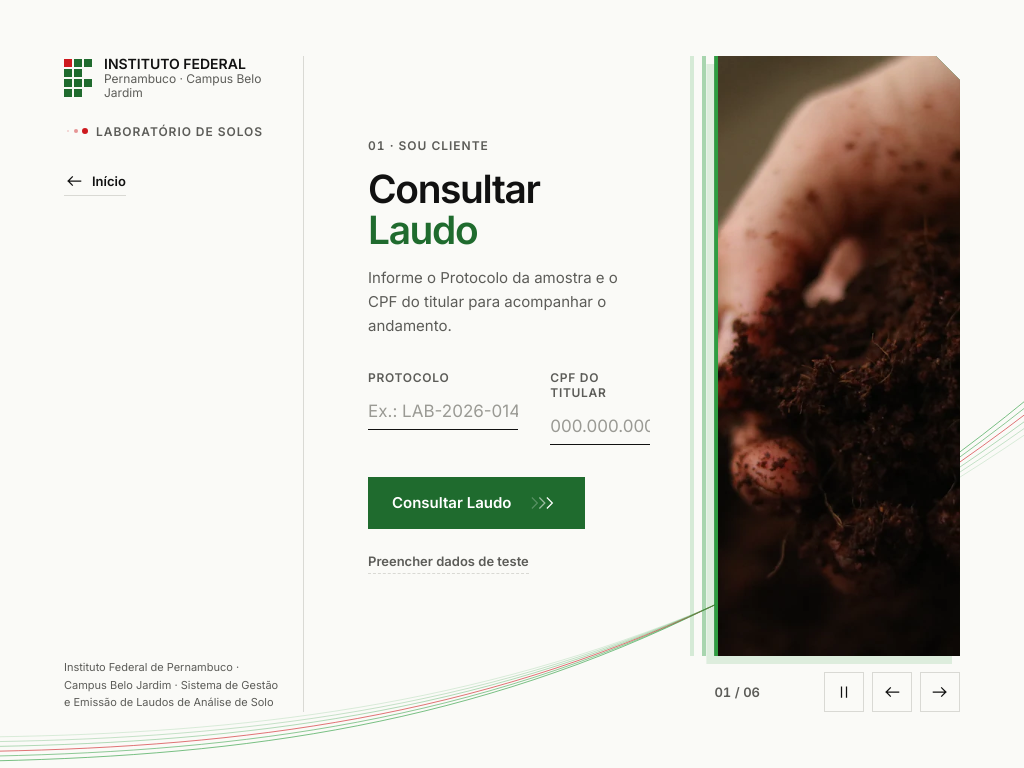
consulta do cliente › valida protocolo e CPF antes de enviar
Click the button "Consultar Laudo" at (477, 503), box [368, 477, 585, 529]
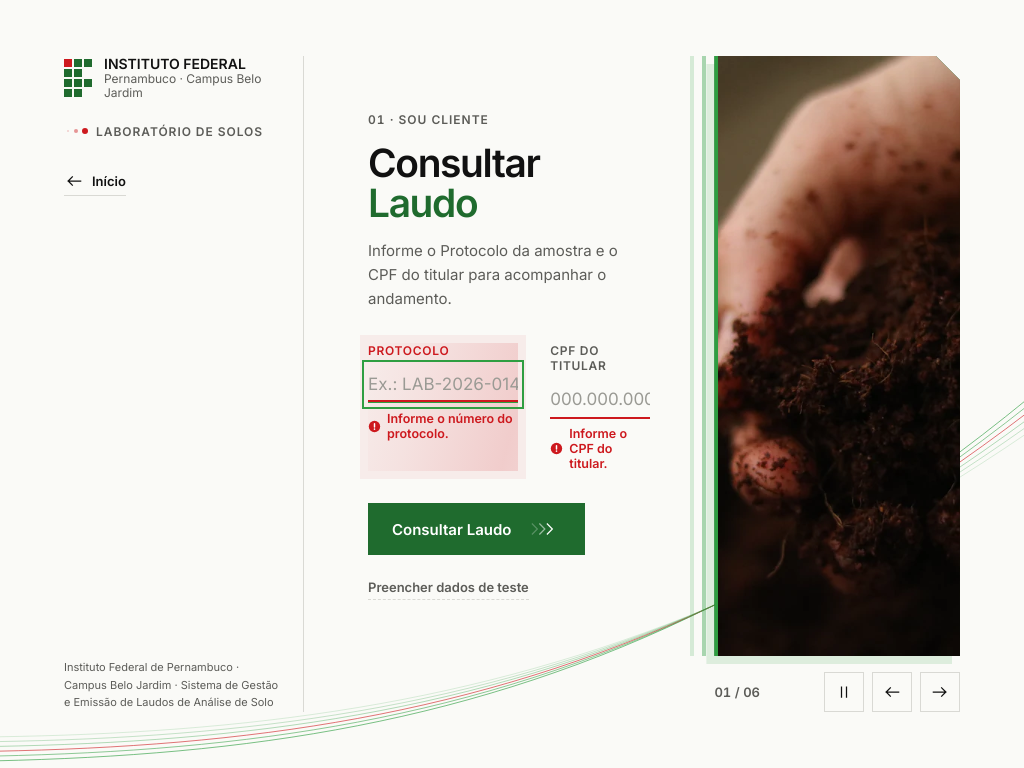
Result: the text "Informe o número do protocolo." is shown at [368, 412, 518, 442]
Type "20101.2306" into the field labelled "Protocolo" at (443, 385), box [368, 366, 518, 404]
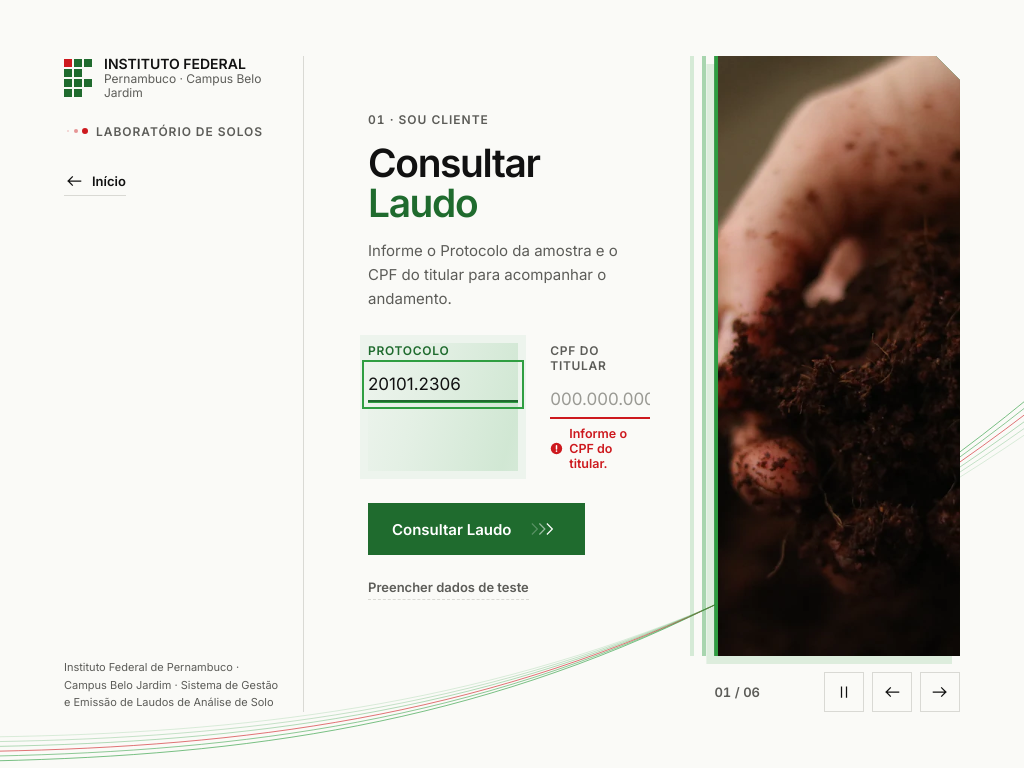
Type "11111111111" into the field labelled "CPF do titular" at (600, 400), box [550, 382, 650, 418]
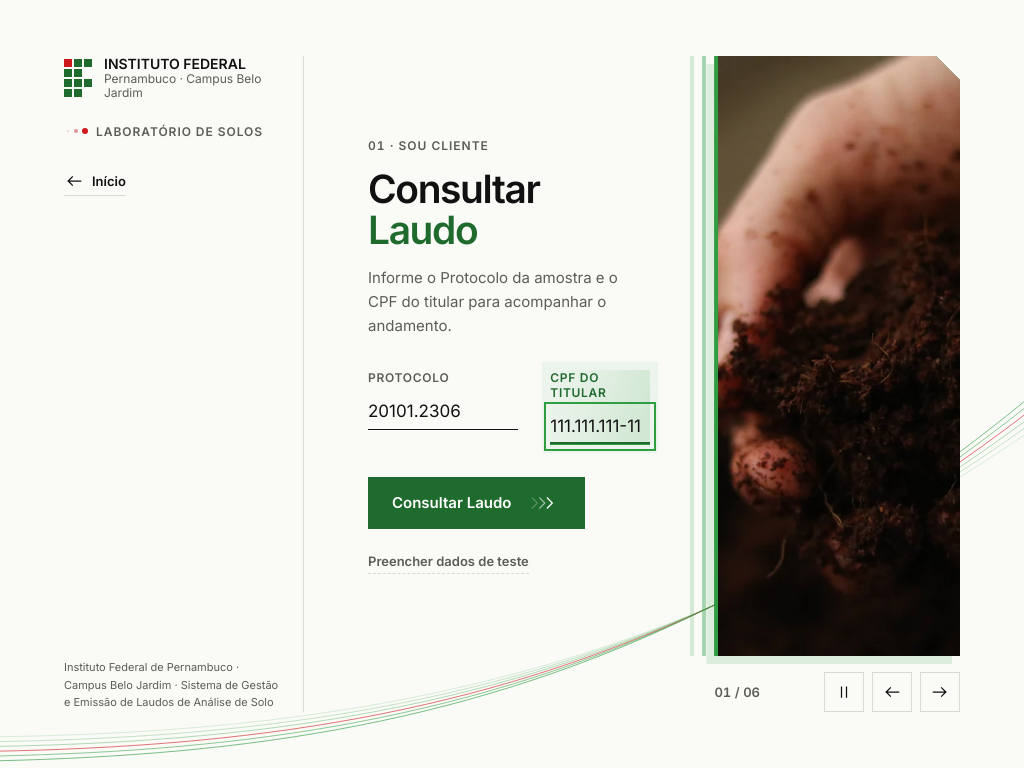
Click the button "Consultar Laudo" at (477, 503), box [368, 477, 585, 529]
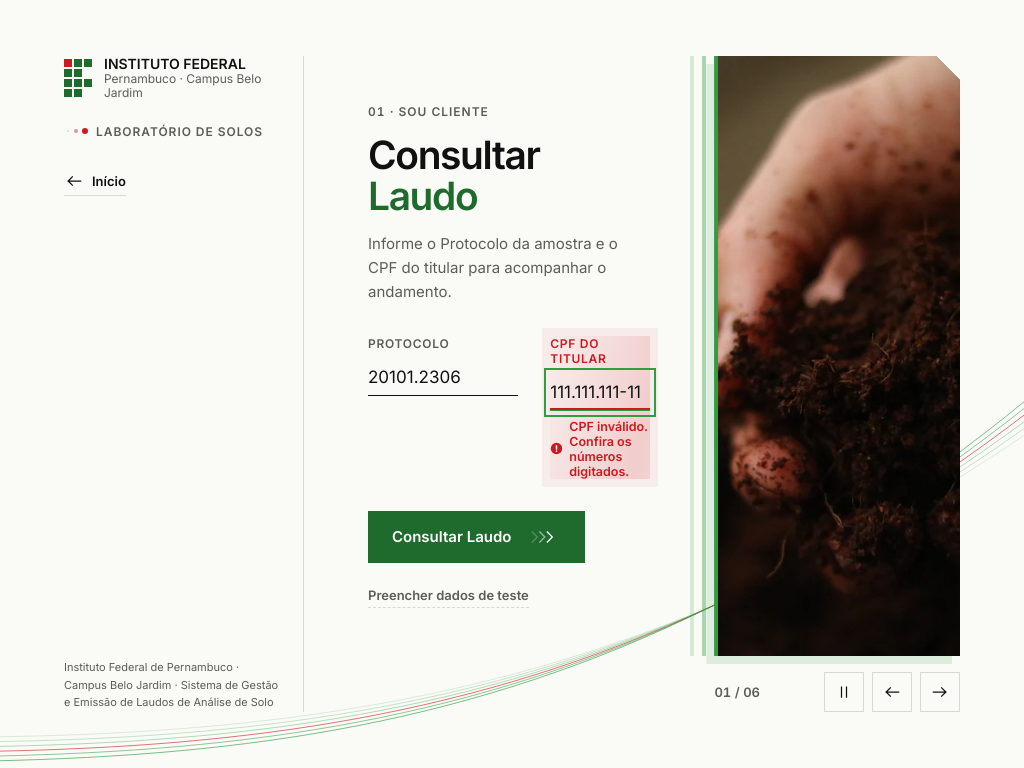
Result: the text "CPF inválido. Confira os números digitados." is shown at [550, 419, 650, 479]
